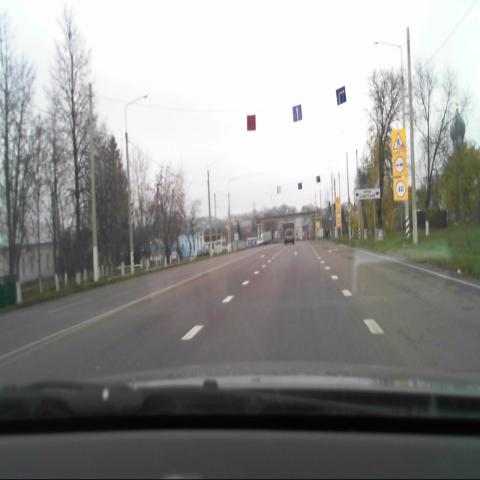1_25: (392, 130, 406, 151)
